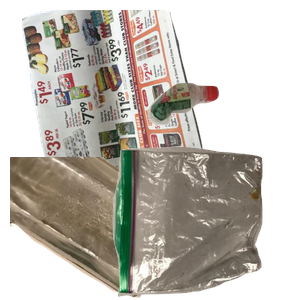glass: (10, 157, 190, 300)
paper: (19, 10, 223, 190)
plastic: (146, 80, 300, 198)
trash: (110, 144, 300, 300)
